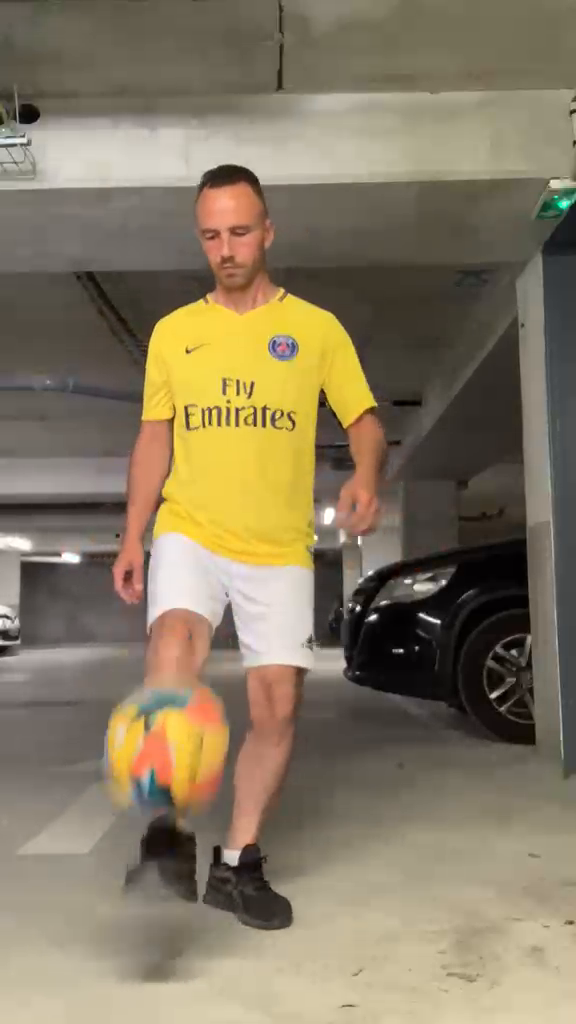ball: (100, 685, 230, 815)
